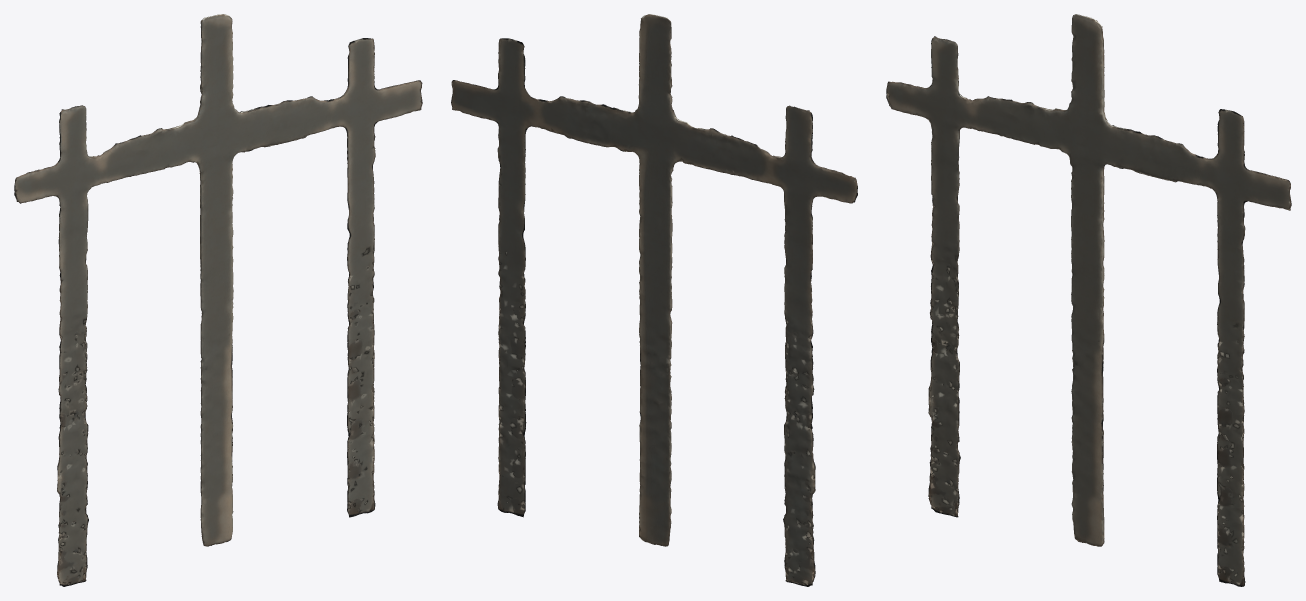
The model's file is Meshy_AI_Three_Crosses_on_a_Hi_0526182637_texture.obj.
3 renders of one model, left to right at view 1: azimuth 30°, elevation 25°; view 2: azimuth 150°, elevation 25°; view 3: azimuth 330°, elevation 25°, orthographic.
Visible parts, largest first — view 1: Meshy_AI_Three_Crosses_on_a_Hi_0526182637_texture; view 2: Meshy_AI_Three_Crosses_on_a_Hi_0526182637_texture; view 3: Meshy_AI_Three_Crosses_on_a_Hi_0526182637_texture.
Boxes of the visible parts, box(x1,y1,x2,y2) form: Meshy_AI_Three_Crosses_on_a_Hi_0526182637_texture: box(14, 14, 422, 586); Meshy_AI_Three_Crosses_on_a_Hi_0526182637_texture: box(451, 14, 857, 586); Meshy_AI_Three_Crosses_on_a_Hi_0526182637_texture: box(886, 14, 1291, 586).
Bounding box in the file's own units: 1.6 × 2 × 0.0155.
1 material, 1 textured.
